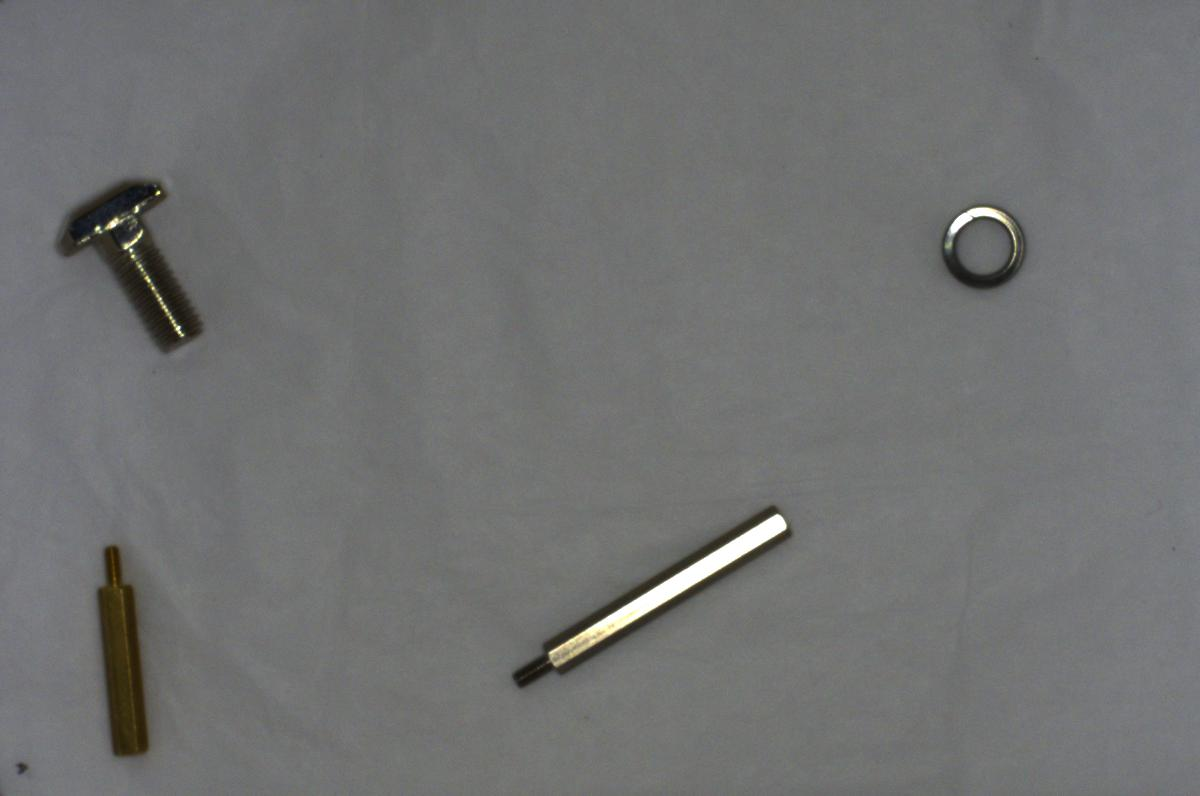Hexagon pillar: (86, 534, 162, 760)
Hexagonal steel column: (494, 495, 794, 708)
Spring washer: (933, 195, 1037, 292)
T-shaped screw: (50, 162, 210, 361)
